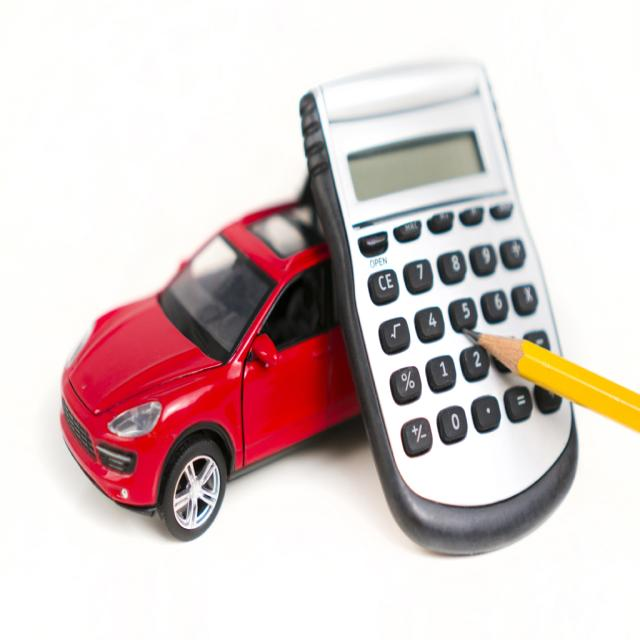Calculator: (300, 52, 582, 556)
